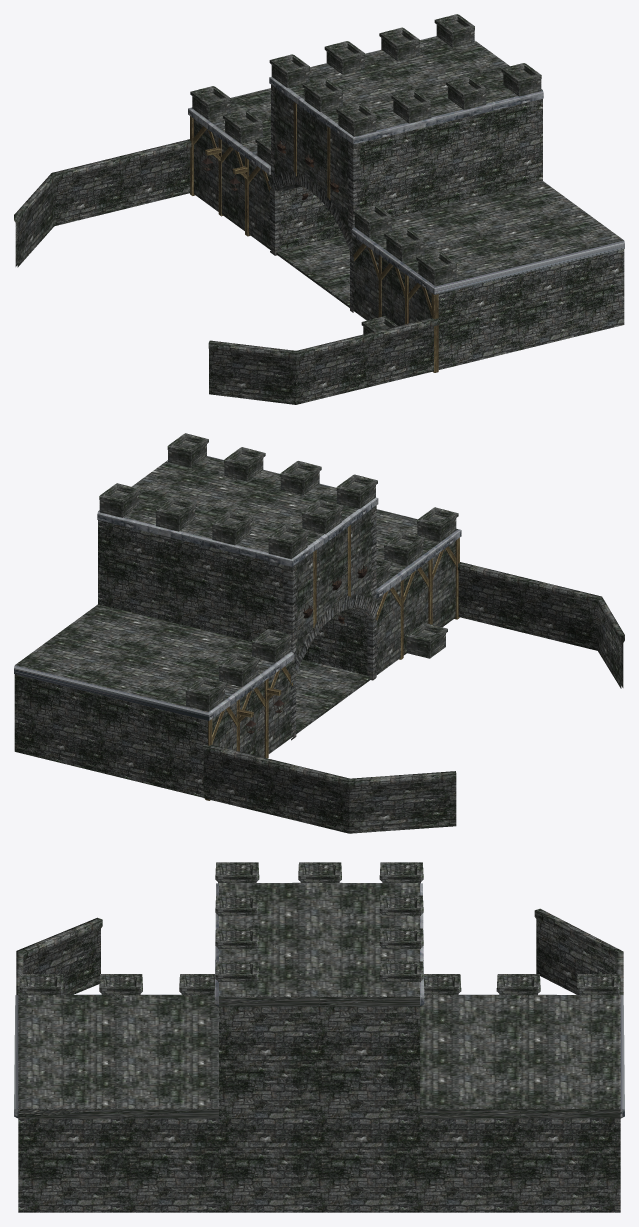
Rendered from Castle.FBX.
3 views of the same model, one above another, from view 1: azimuth 30°, elevation 25°; view 2: azimuth 150°, elevation 25°; view 3: azimuth 270°, elevation 25° (orthographic). The views are drawn at different scales.
Visible parts, largest first — view 1: Box001, Stone_wall, Object002, WOOD, Ditail; view 2: Box001, Stone_wall, Object002, Ditail, WOOD; view 3: Box001, Stone_wall, Object002.
Boxes of the visible parts, x1,y1,x2,y2 form: Box001: [190, 14, 624, 369]; Stone_wall: [14, 139, 440, 404]; Object002: [188, 36, 624, 294]; WOOD: [190, 102, 438, 372]; Ditail: [268, 84, 361, 312]; Box001: [14, 433, 458, 797]; Stone_wall: [203, 562, 624, 833]; Object002: [14, 456, 461, 720]; Ditail: [282, 505, 379, 740]; WOOD: [205, 525, 459, 800]; Box001: [18, 862, 620, 1212]; Stone_wall: [16, 908, 623, 994]; Object002: [14, 882, 624, 1118].
Bounding box in the file's own units: 273 × 127 × 294.
